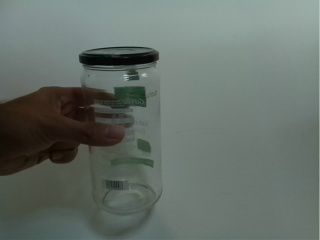pote cristal: (76, 44, 171, 218)
